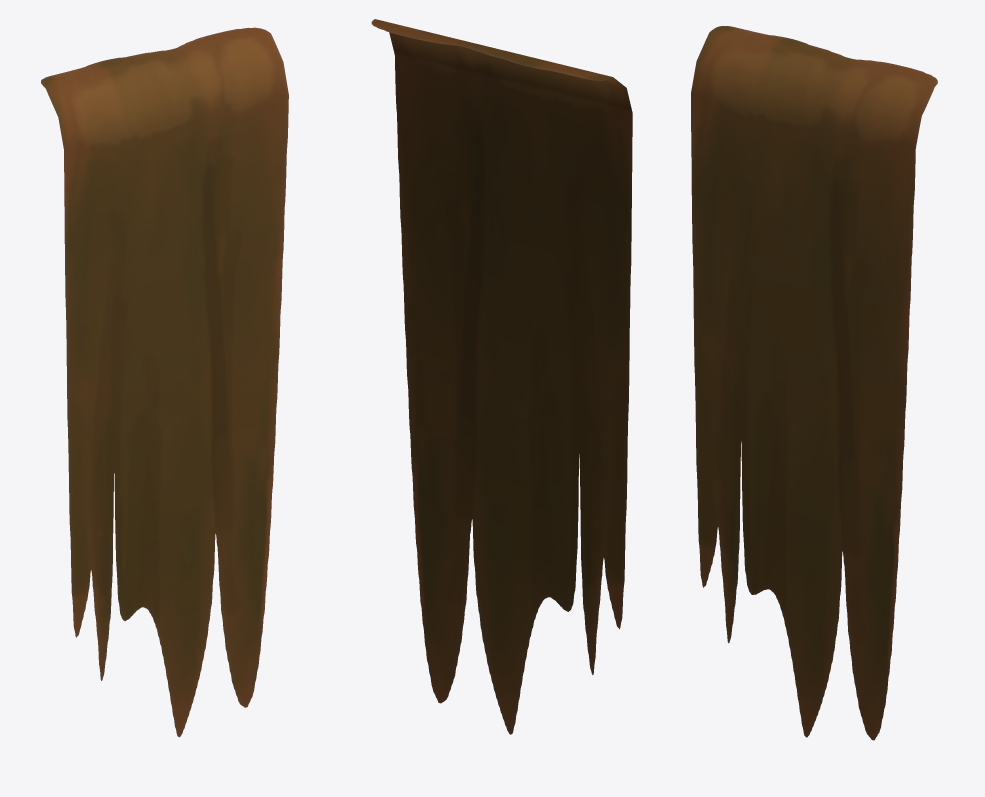
The model's file is Veg_Moss_B.fbx.
3 views of the same model, side by side, from view 1: azimuth 30°, elevation 25°; view 2: azimuth 150°, elevation 25°; view 3: azimuth 330°, elevation 25° (orthographic). The views are drawn at different scales.
Parts seen in each view (by area): view 1: Veg_Moss_B; view 2: Veg_Moss_B; view 3: Veg_Moss_B.
Boxes of the visible parts, x1,y1,x2,y2 form: Veg_Moss_B: (41, 27, 288, 737); Veg_Moss_B: (371, 19, 632, 734); Veg_Moss_B: (691, 26, 937, 740).
Size of the model in its own units: 91.17 by 229 by 21.37.
